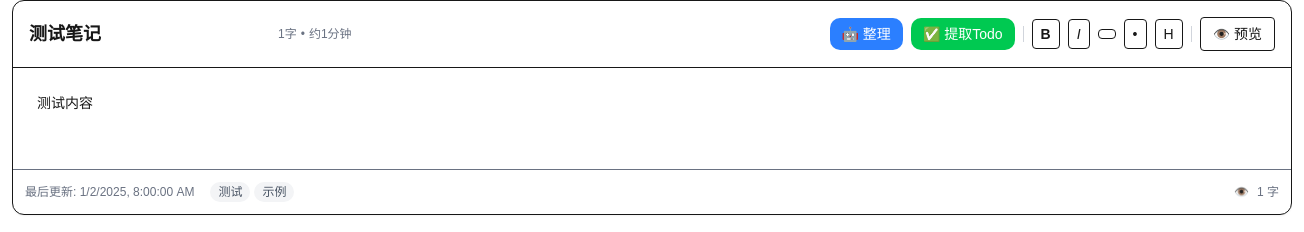
MarkdownEditor › 边界情况和错误处理 › handles rapid content changes
Replace the text in the text box showing "测试内容" with "a" at (652, 115), box [13,68,1291,162]
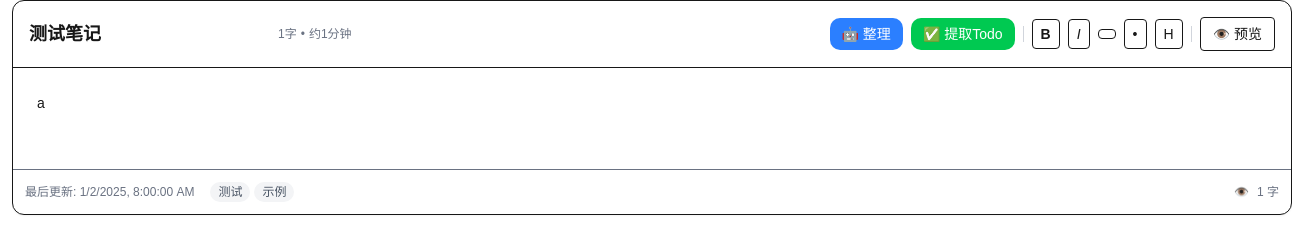
Type "b" into the text box showing "测试内容".
click(652, 115); type("b")  # box [13,68,1291,162]
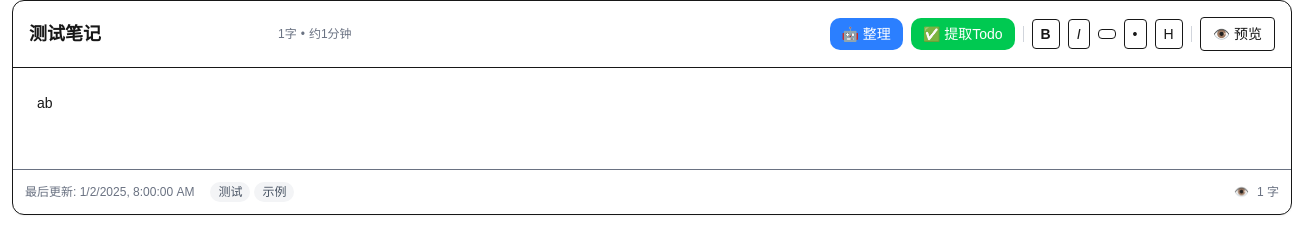
Type "c" into the text box showing "测试内容".
click(652, 115); type("c")  # box [13,68,1291,162]
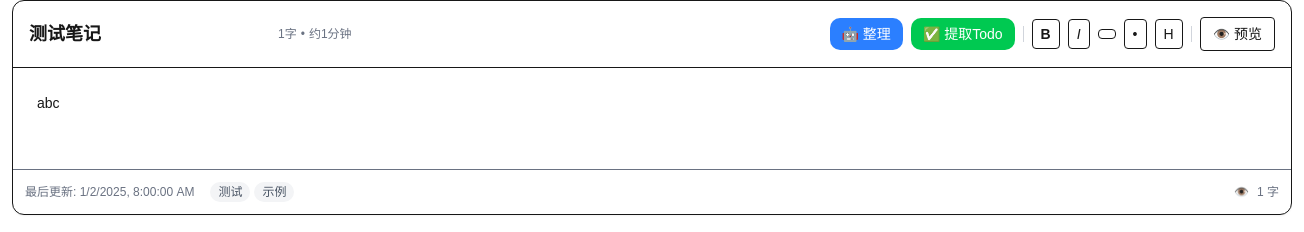
Result: the text box showing "测试内容" holds "abc" at [13,68,1291,162]
